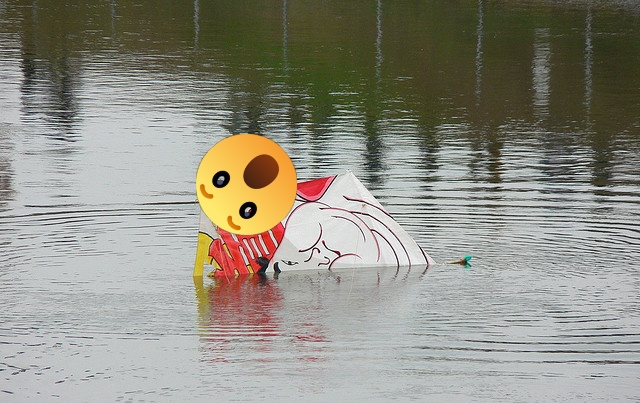wow: (196, 134, 297, 235)
